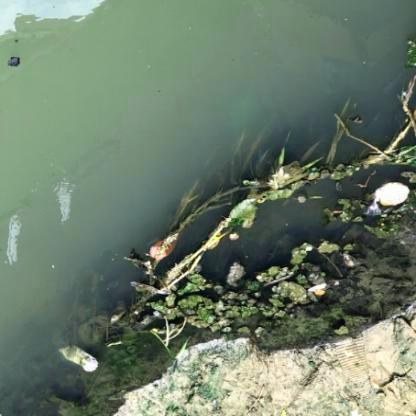Trash: (55, 340, 100, 375), (373, 178, 412, 214)
